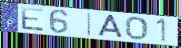1: (155, 18, 166, 43)
6: (48, 9, 70, 35)
A: (97, 14, 125, 39)
E: (20, 6, 46, 33)
I: (87, 11, 93, 37)
O: (124, 16, 149, 41)
